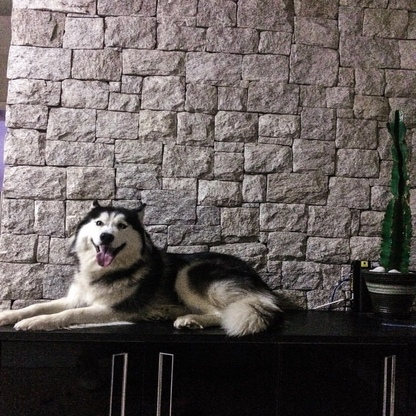husky: (3, 194, 327, 344)
